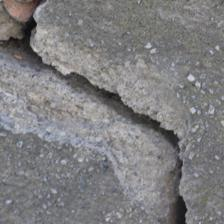Crack: (32, 51, 189, 222)
